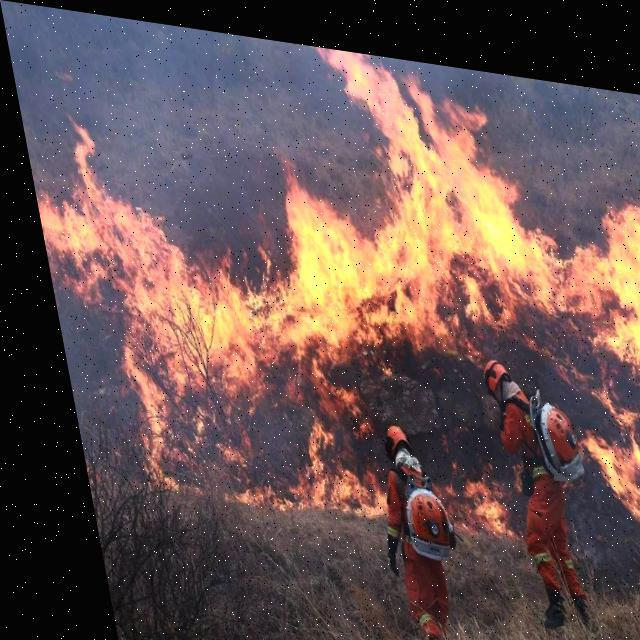Fire: (10, 8, 639, 582)
